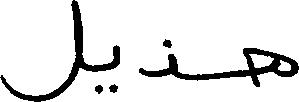X: (0, 0, 80, 101), (245, 43, 298, 91), (141, 34, 174, 81), (113, 40, 117, 97)
